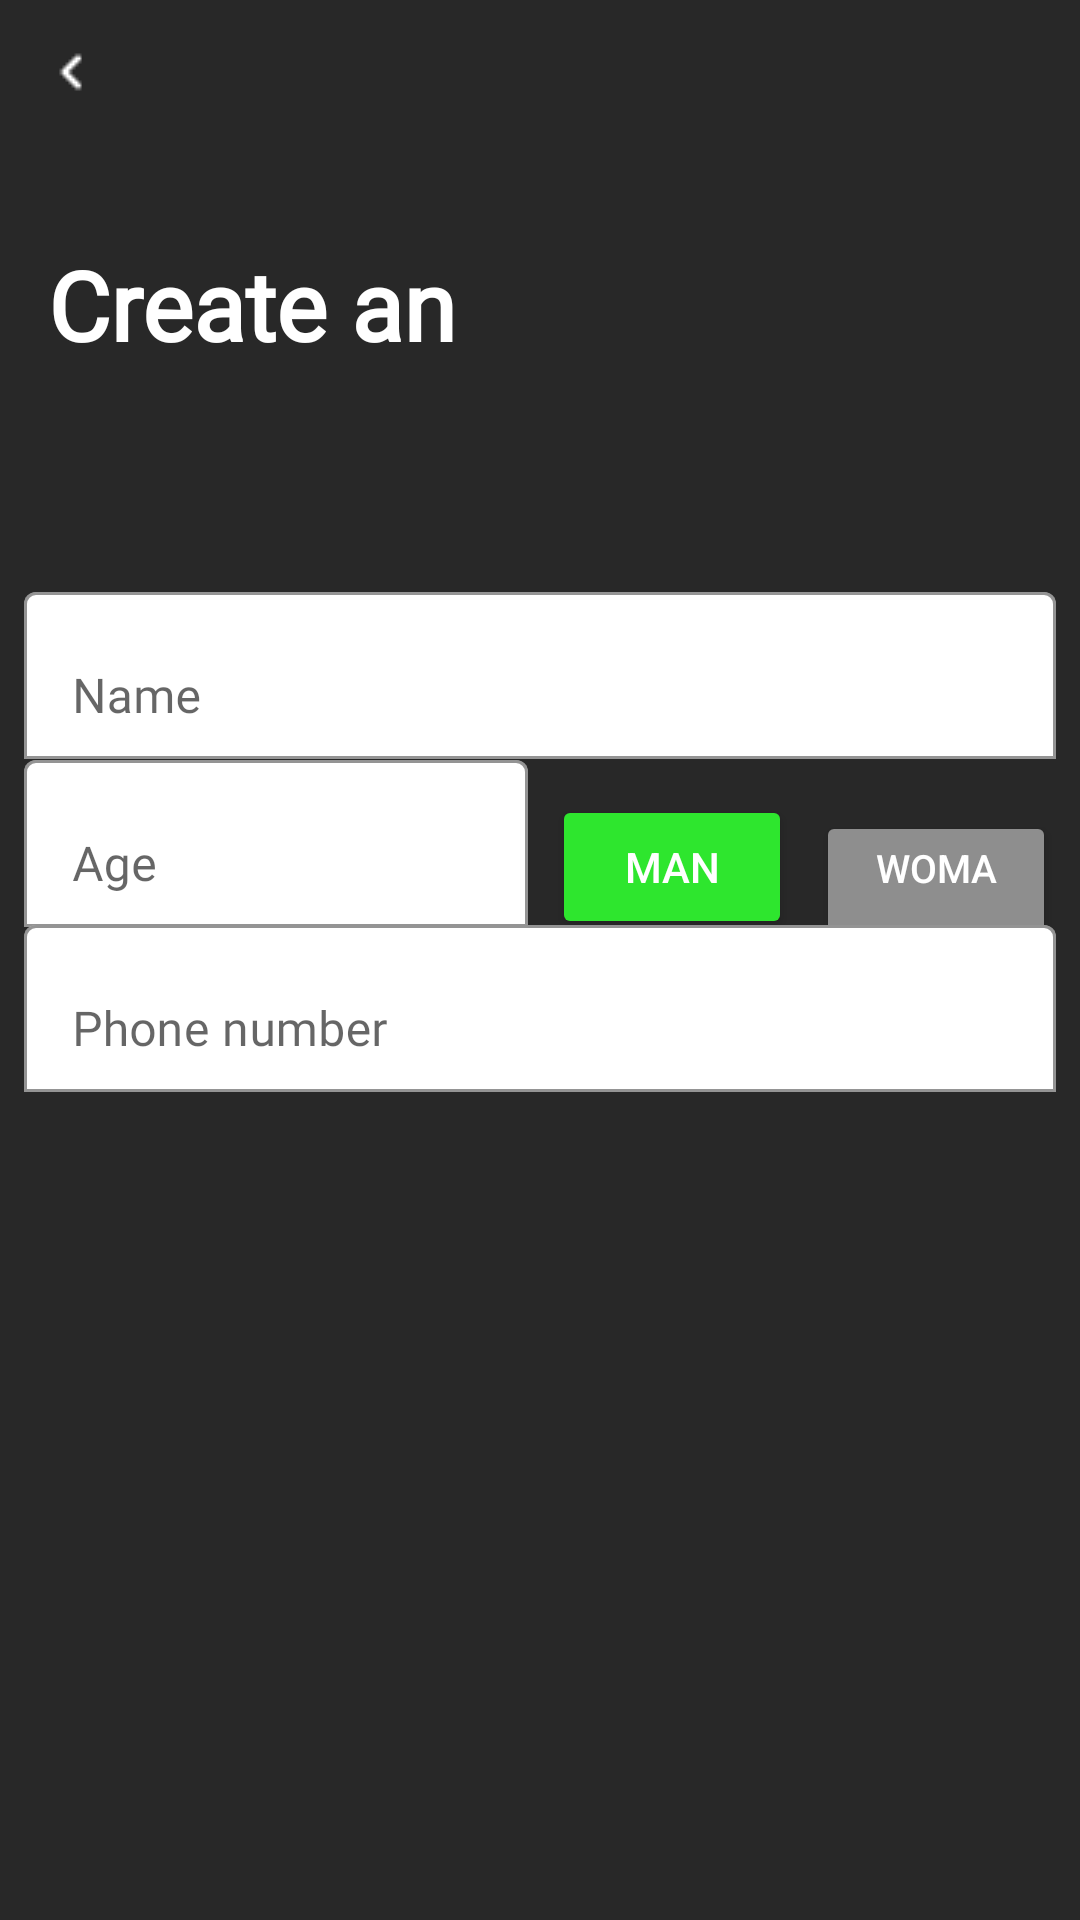

Named icons in this screenshot (1080px x 1920px) and their centers, [x,y]:
left: [70,72]
